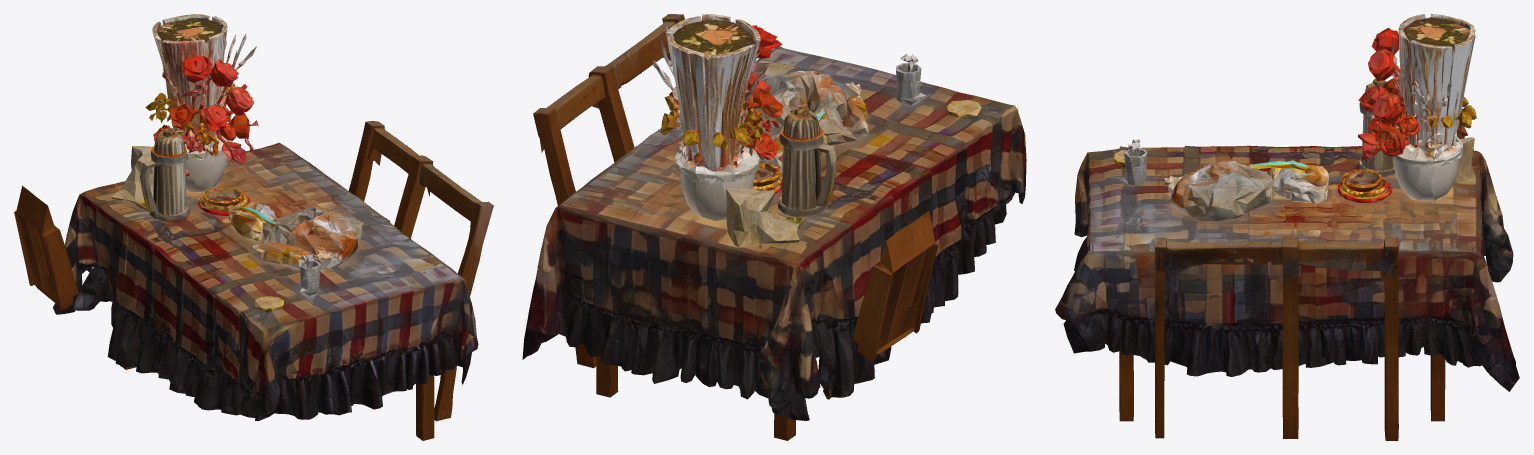
The picture shows the model from 3 angles, left to right: view 1: azimuth 30°, elevation 25°; view 2: azimuth 150°, elevation 25°; view 3: azimuth 270°, elevation 25°; orthographic projection. The views are drawn at different scales.
Visible parts, largest first — view 1: model; view 2: model; view 3: model.
Part boxes in pixels (x1,y1,x2,y2): model: (14, 14, 493, 440); model: (522, 14, 1026, 440); model: (1055, 14, 1519, 440).
Size of the model in its own units: 1.7 by 1.55 by 1.9.
Materials: 1 (1 with a texture image).
